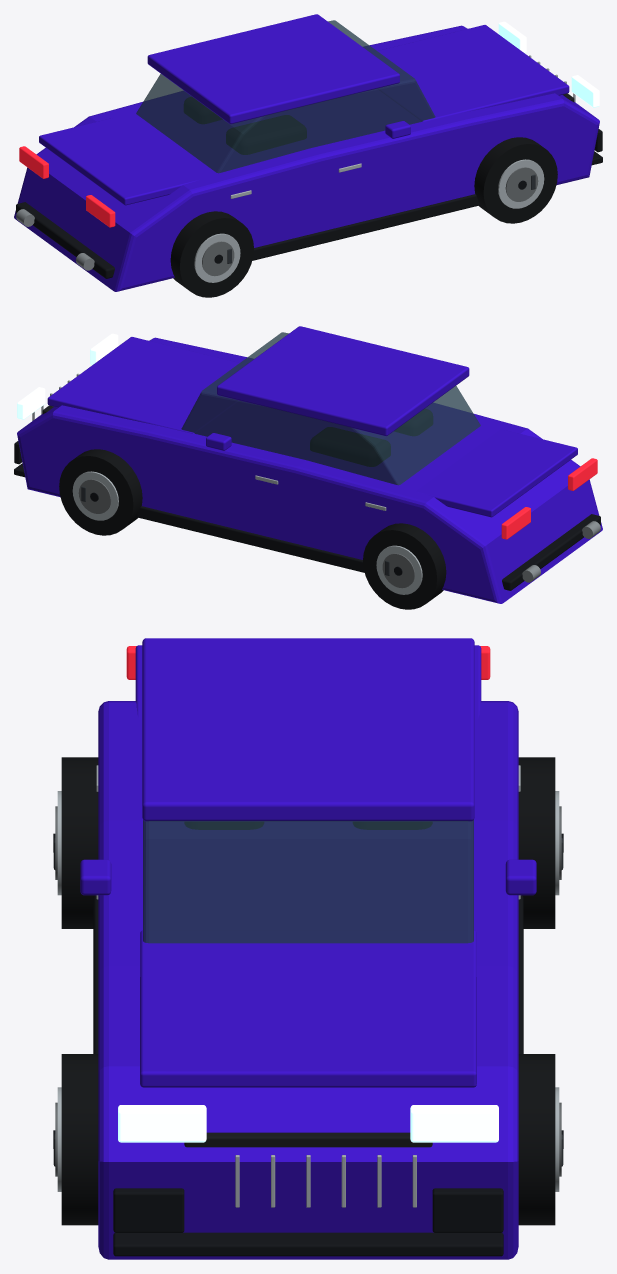
The model's file is chevy_lumina.glb.
3 views of the same model, one above another, from view 1: azimuth 30°, elevation 25°; view 2: azimuth 150°, elevation 25°; view 3: azimuth 270°, elevation 25° (orthographic). The views are drawn at different scales.
Parts seen in each view (by area): view 1: sculpted_body, roof, glasshouse, hood_center, rear_deck, rear_right_wheel_tire, front_right_wheel_tire, side_skirt_1, seat_1, rear_diffuser, front_right_wheel_rim, rear_right_wheel_rim (+7 smaller); view 2: sculpted_body, roof, glasshouse, hood_center, rear_deck, rear_left_wheel_tire, front_left_wheel_tire, side_skirt_-1, seat_-1, rear_diffuser, front_left_wheel_rim, rear_left_wheel_rim (+7 smaller); view 3: sculpted_body, roof, hood_center, glasshouse, front_splitter, front_left_wheel_tire, front_right_wheel_tire, rear_left_wheel_tire, rear_right_wheel_tire, front_grille, headlight_left, headlight_right (+7 smaller).
Boxes of the visible parts, box(x1,y1,x2,y2) form: sculpted_body: box(14, 25, 599, 291); roof: box(147, 14, 399, 124); glasshouse: box(136, 20, 435, 173); hood_center: box(372, 25, 569, 121); rear_deck: box(39, 117, 200, 205); rear_right_wheel_tire: box(170, 211, 253, 297); front_right_wheel_tire: box(474, 137, 557, 223); side_skirt_1: box(252, 194, 480, 260); seat_1: box(226, 115, 306, 154); rear_diffuser: box(16, 202, 114, 278); front_right_wheel_rim: box(498, 159, 544, 208); rear_right_wheel_rim: box(194, 233, 240, 282); sculpted_body: box(17, 337, 602, 603); roof: box(217, 326, 469, 436); glasshouse: box(181, 332, 480, 485); hood_center: box(47, 337, 244, 433); rear_deck: box(416, 429, 577, 517); rear_left_wheel_tire: box(363, 523, 446, 609); front_left_wheel_tire: box(59, 449, 142, 535); side_skirt_-1: box(136, 506, 364, 572); seat_-1: box(310, 427, 390, 466); rear_diffuser: box(502, 514, 600, 590); front_left_wheel_rim: box(72, 471, 118, 520); rear_left_wheel_rim: box(376, 545, 422, 594); sculpted_body: box(98, 701, 518, 1259); roof: box(142, 638, 474, 821); hood_center: box(140, 930, 476, 1087); glasshouse: box(143, 820, 473, 943); front_splitter: box(113, 1232, 503, 1256); front_left_wheel_tire: box(518, 1054, 555, 1225); front_right_wheel_tire: box(61, 1054, 98, 1225); rear_left_wheel_tire: box(518, 757, 555, 928); rear_right_wheel_tire: box(61, 757, 98, 928); front_grille: box(184, 1132, 432, 1147); headlight_left: box(410, 1105, 498, 1142); headlight_right: box(118, 1105, 206, 1142).
Bounding box in the file's own units: 4.92 × 1.47 × 2.14.
